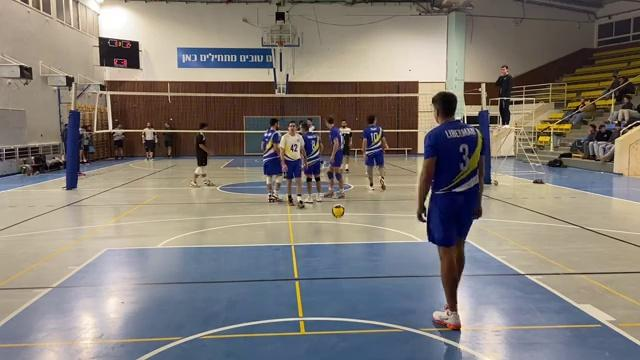ball: (328, 199, 349, 221)
